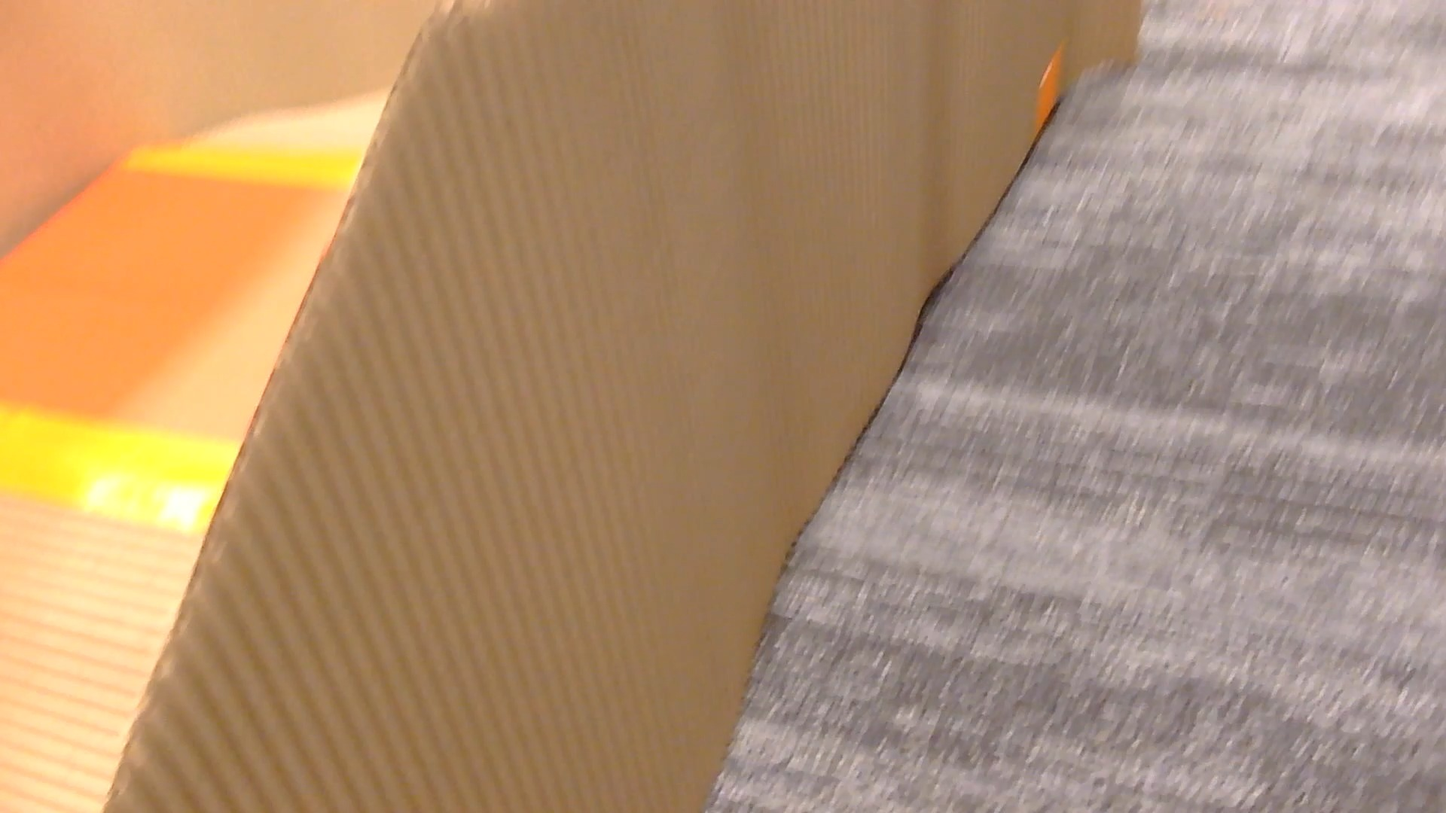Ramp: (0, 0, 1140, 812)
